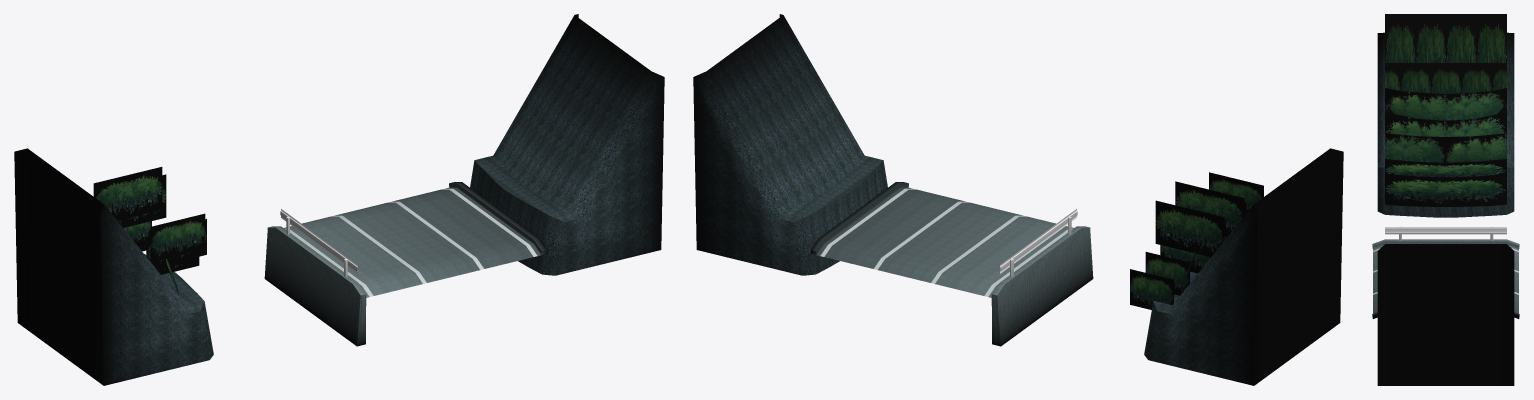
Rendered from K_MOUNT_RORD.glb.
3 views of the same model, side by side, from view 1: azimuth 30°, elevation 25°; view 2: azimuth 150°, elevation 25°; view 3: azimuth 270°, elevation 25° (orthographic). The views are drawn at different scales.
Parts seen in each view (by area): view 1: obj11, bone2_b, bone6_b; view 2: obj11, bone2, bone0, bone6, bone4; view 3: obj11.
Boxes of the visible parts, x1,y1,x2,y2 form: obj11: [14, 14, 664, 385]; bone2_b: [93, 167, 166, 227]; bone6_b: [150, 213, 206, 267]; obj11: [693, 14, 1343, 385]; bone2: [1155, 181, 1244, 257]; bone0: [1130, 252, 1189, 309]; bone6: [1209, 172, 1263, 215]; bone4: [1160, 237, 1226, 273]; obj11: [1372, 14, 1519, 385].
Bounding box in the file's own units: 106 × 38.74 × 30.2.
Materials: 16 (16 with a texture image).
